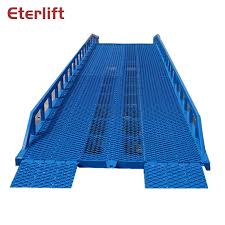Yard Ramp: (7, 31, 210, 191)
